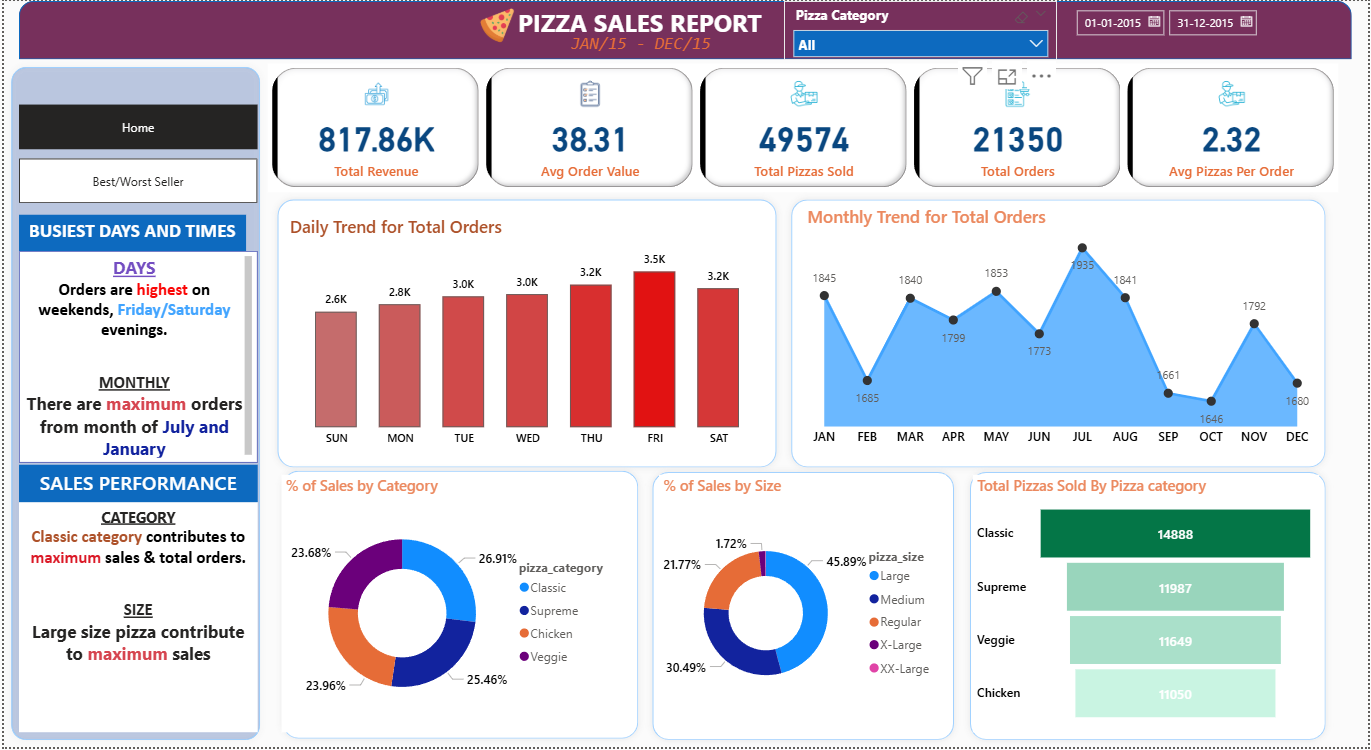

This screenshot's page, from the dashboard's own definition file:
{"tool":"powerbi","page":{"name":"Home","canvas":[1500,820],"ordinal":0},"visuals":[{"type":"cardVisual","fields":{"Data":["pizza_sales.Total Revenue","pizza_sales.Avg Order Value","pizza_sales.Total Pizzas Sold","pizza_sales.Total Orders","pizza_sales.Avg Pizzas Per Order"]},"box":[289.5,69.1,1177.1,141.5],"z":0},{"type":"shape","box":[16.1,0,1464.9,64.3],"z":1000},{"type":"textbox","box":[541.9,0,315.2,49.9],"z":2000},{"type":"textbox","box":[611.1,32.2,176.9,37],"z":3000},{"type":"image","box":[513,3.2,59.5,48.2],"z":4000},{"type":"shape","box":[292.7,210.7,564.4,310.4],"z":5000},{"type":"columnChart","title":"Daily Trend for Total Orders","fields":{"Category":["pizza_sales.Order Day"],"Y":["pizza_sales.Total Orders"]},"box":[308.7,234.8,533.9,263.7],"z":6000},{"type":"shape","box":[857.1,210.7,603,310.4],"z":7000},{"type":"areaChart","title":"Monthly Trend for Total Orders","fields":{"Category":["pizza_sales.Order Month"],"Y":["pizza_sales.Total Orders"]},"box":[878,223.5,567.6,275],"z":8000},{"type":"shape","box":[297.5,508.1,406.8,310.4],"z":9000},{"type":"shape","box":[704.3,509.8,347.3,310.4],"z":10000},{"type":"donutChart","title":"% of Sales by Category","fields":{"Category":["pizza_sales.pizza_category"],"Y":["pizza_sales.Total Revenue"]},"box":[305.5,521,374.7,283],"z":11000},{"type":"donutChart","title":"% of Sales by Size","fields":{"Category":["pizza_sales.pizza_size"],"Y":["pizza_sales.Total Revenue"]},"box":[720.4,521,315.2,283],"z":12000},{"type":"shape","box":[1053.3,509.8,406.8,310.4],"z":13000},{"type":"shape","box":[0,64.3,289.5,755.8],"z":13250},{"type":"textbox","box":[16.1,234.8,249.3,40.2],"z":13500},{"type":"funnel","title":"Total Pizzas Sold By Pizza category","fields":{"Y":["pizza_sales.Total Pizzas Sold"],"Category":["pizza_sales.pizza_category"]},"box":[1064.5,521,381.1,283],"z":14000},{"type":"textbox","box":[16.1,275,262.1,233.2],"z":14001},{"type":"textbox","box":[16.1,509.8,262.1,41.8],"z":14002},{"type":"textbox","box":[16.1,551.6,262.1,252.5],"z":14003},{"type":"slicer","fields":{"Values":["pizza_sales.pizza_category"]},"box":[857.1,0,300.7,64.3],"z":14004},{"type":"slicer","fields":{"Values":["pizza_sales.order_date"]},"box":[1165.8,0,300.7,64.3],"z":14005},{"type":"pageNavigator","box":[16.1,114.2,262.1,49.9],"z":14006},{"type":"pageNavigator","box":[16.1,173.7,262.1,49.9],"z":14007}]}

Visuals, with their boxes in screenshot pixels (x1, y1, x2, y2), scaled from the page's 1500x820 canvas onto the 1371x750 screenshot:
cardVisual - pizza_sales.Total Revenue x pizza_sales.Avg Order Value: 265, 63, 1340, 193
shape: 15, 0, 1354, 59
textbox: 495, 0, 783, 46
textbox: 559, 29, 720, 63
image: 469, 3, 523, 47
shape: 268, 193, 783, 477
"Daily Trend for Total Orders" columnChart: 282, 215, 770, 456
shape: 783, 193, 1335, 477
"Monthly Trend for Total Orders" areaChart: 802, 204, 1321, 456
shape: 272, 465, 644, 749
shape: 644, 466, 961, 749
"% of Sales by Category" donutChart: 279, 477, 622, 735
"% of Sales by Size" donutChart: 658, 477, 947, 735
shape: 963, 466, 1335, 749
shape: 0, 59, 265, 749
textbox: 15, 215, 243, 252
"Total Pizzas Sold By Pizza category" funnel: 973, 477, 1321, 735
textbox: 15, 252, 254, 465
textbox: 15, 466, 254, 505
textbox: 15, 505, 254, 735
slicer - pizza_sales.pizza_category: 783, 0, 1058, 59
slicer - pizza_sales.order_date: 1066, 0, 1340, 59
pageNavigator: 15, 104, 254, 150
pageNavigator: 15, 159, 254, 205
